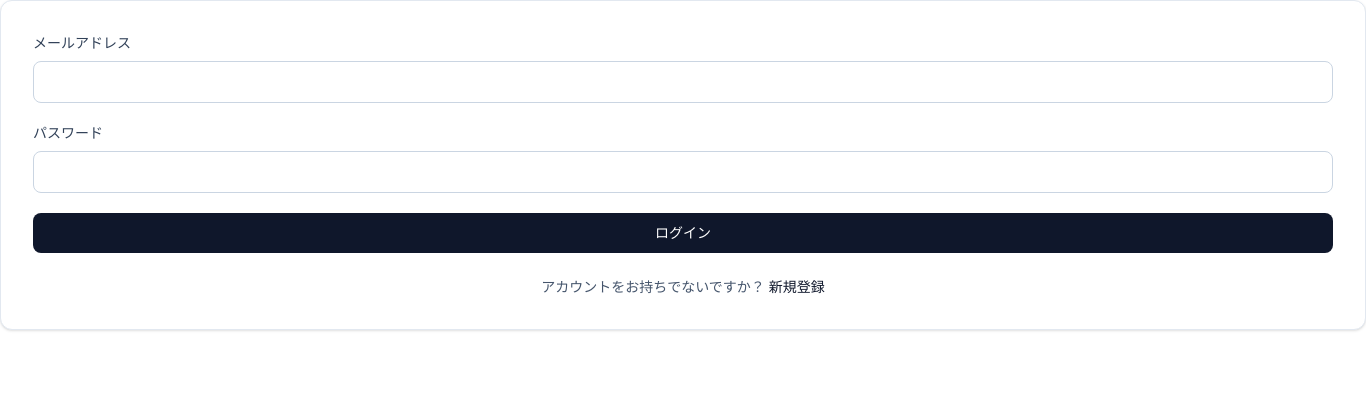
Test: LoginForm › 通信エラーの場合は通信エラーメッセージを表示する
Type "test@example.com" into the field labelled "メールアドレス" at (683, 82), box [33,61,1333,103]
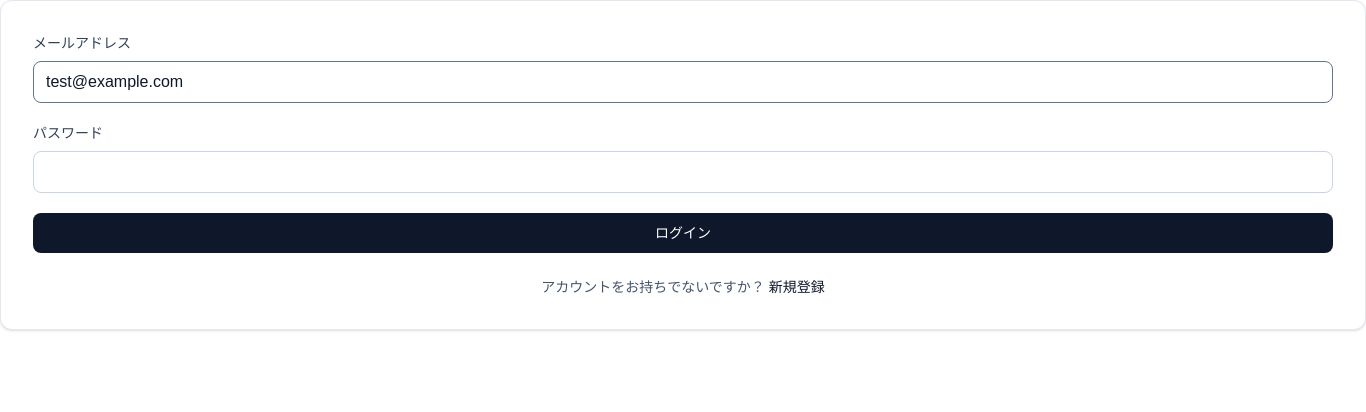
Type "password123" into the password field labelled "パスワード" at (683, 172), box [33,151,1333,193]
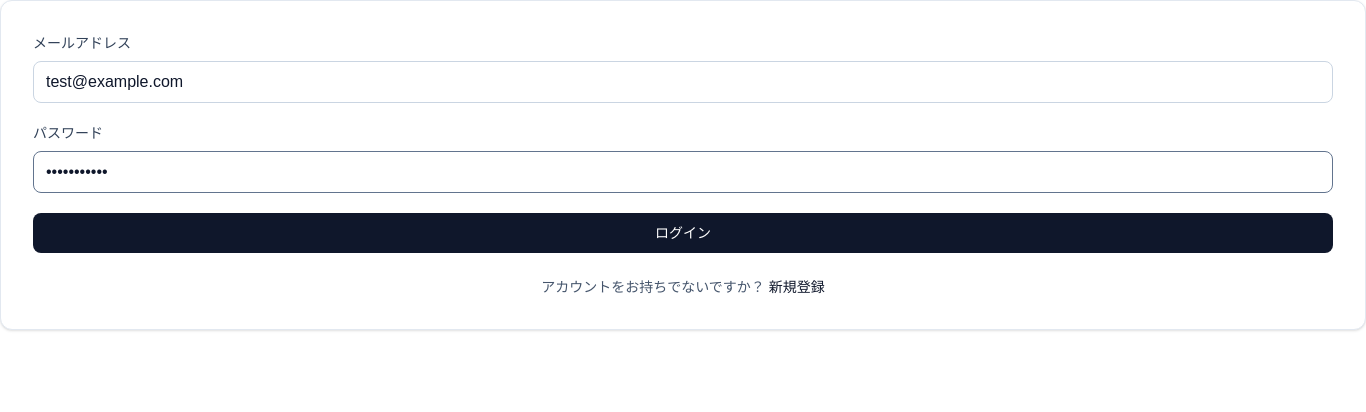
Click the button "ログイン" at (683, 233), box [33,213,1333,253]
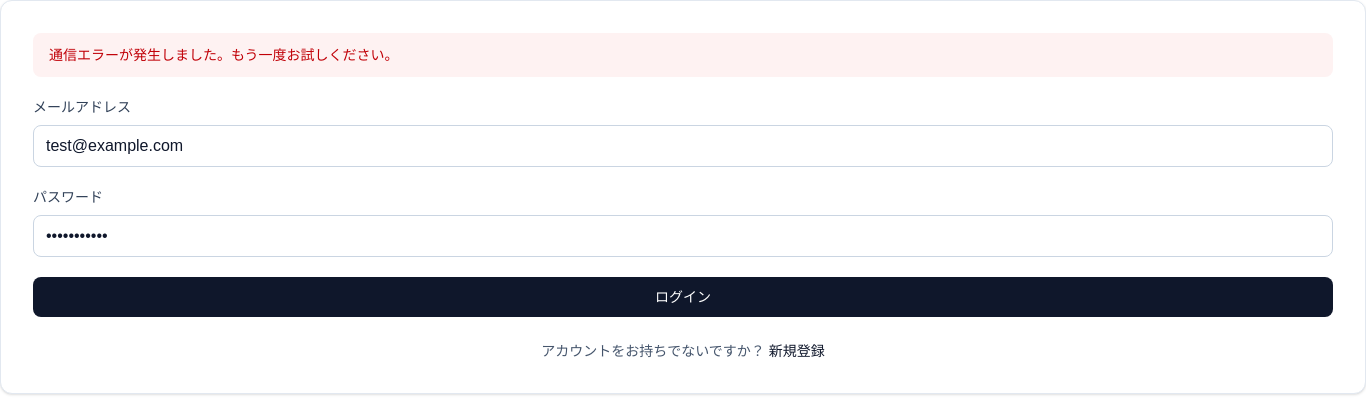
Now the message reads "通信エラーが発生しました。もう一度お試しください。", box [49,47,399,63]
